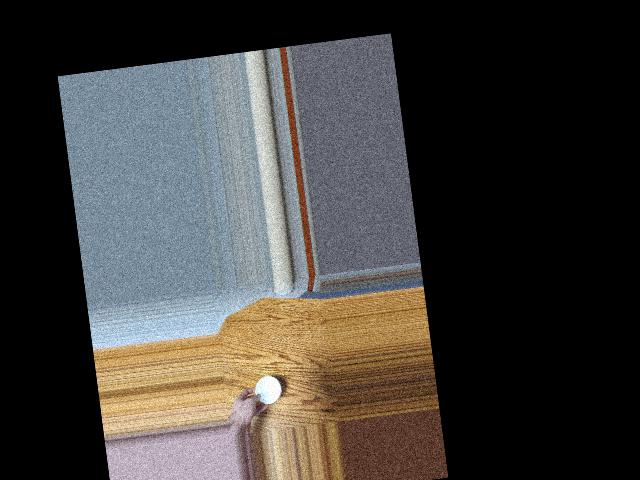cotage: (249, 371, 283, 410)
